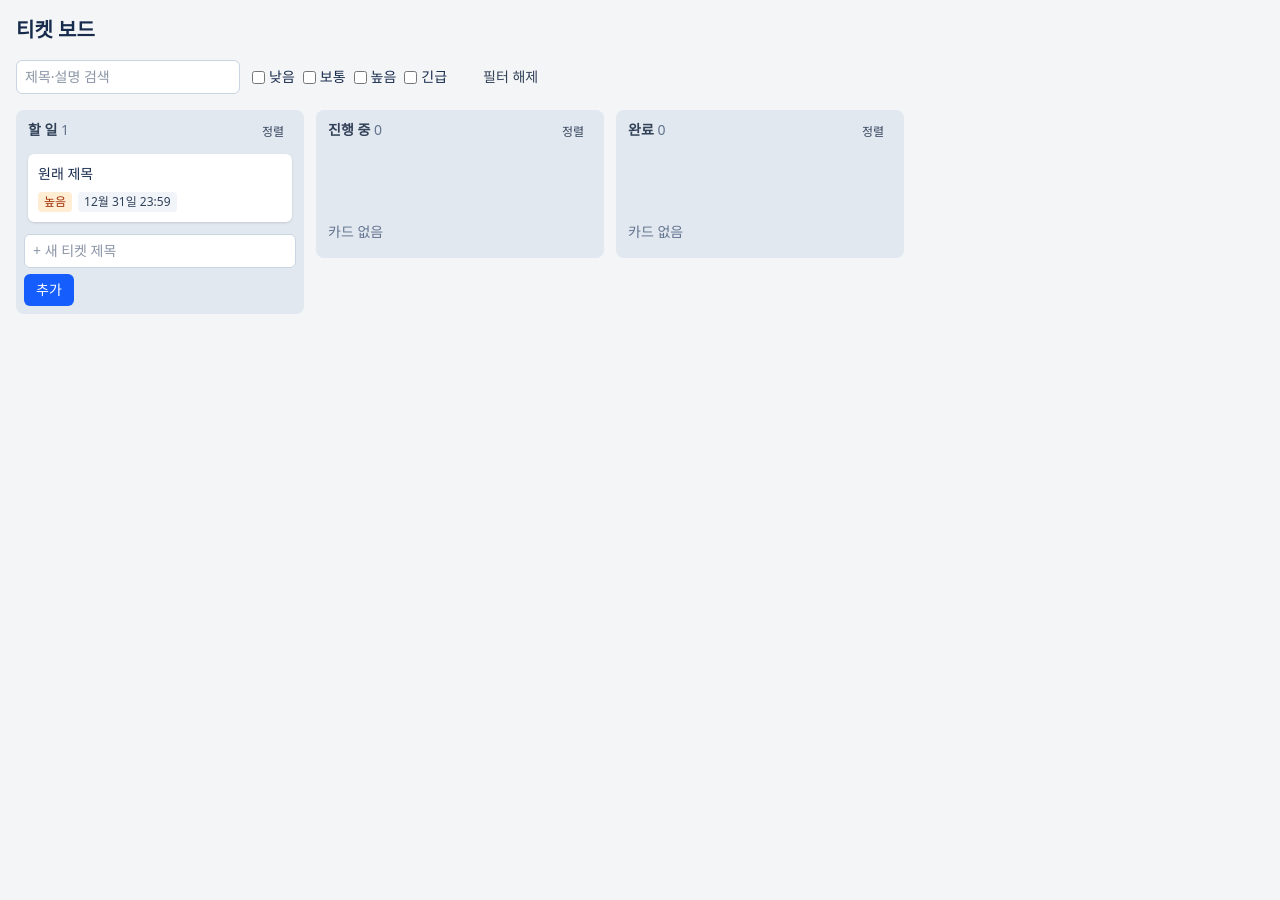
Test: 티켓 상세 모달 (UI-C08) › TC-UI-013: 열면 카드의 현재 값이 채워진다
This screenshot has width=1280, height=900.
What coordinates should you click on to do the following:
click the text "원래 제목"
I would click on:
 (66, 174)
Its box is [38,164,93,184].
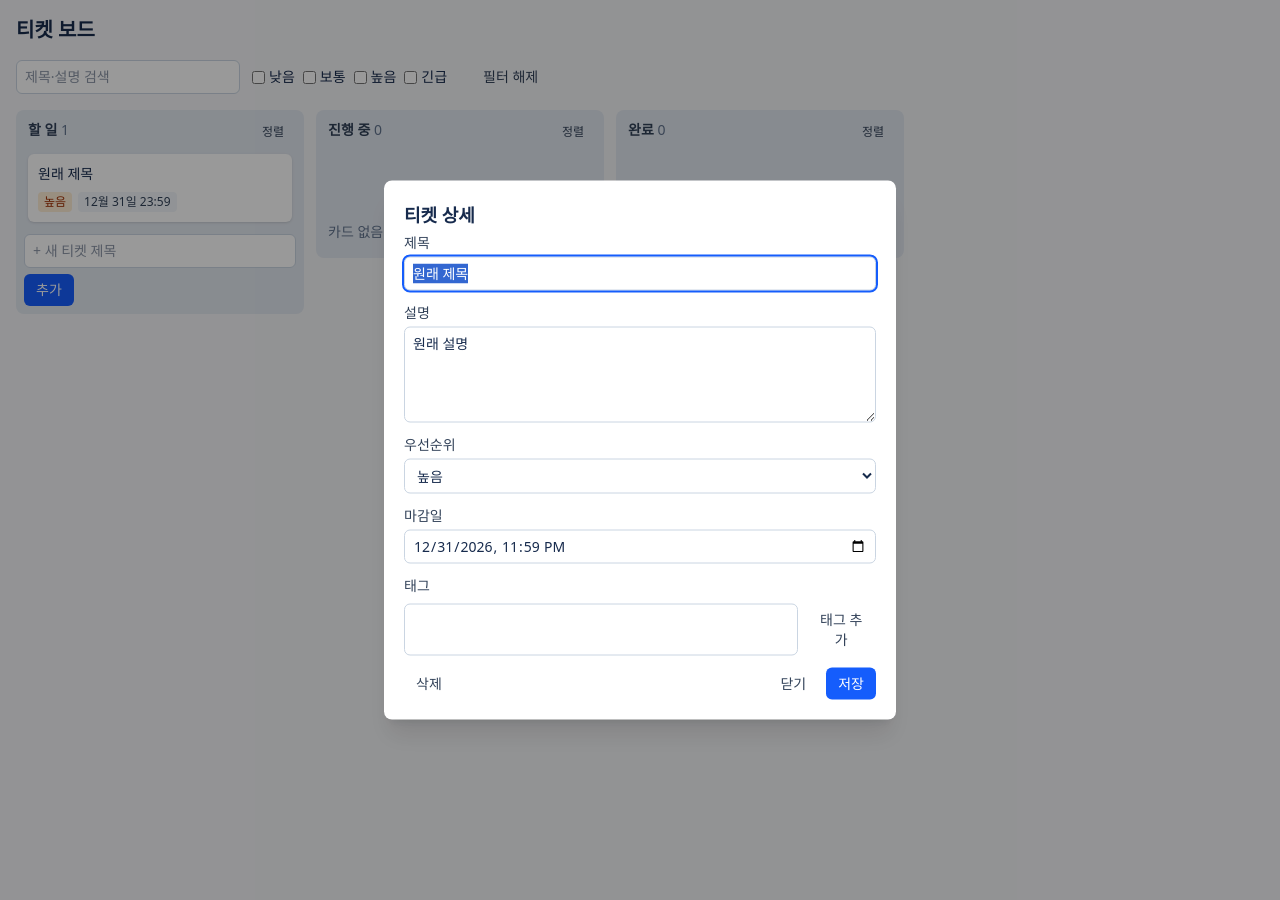
Expected: the field labelled "제목" holds "원래 제목", [404,256,876,290]
Expected: the text box labelled "설명" holds "원래 설명", [404,326,876,422]
Expected: the dropdown labelled "우선순위" shows "높음", [404,458,876,494]
